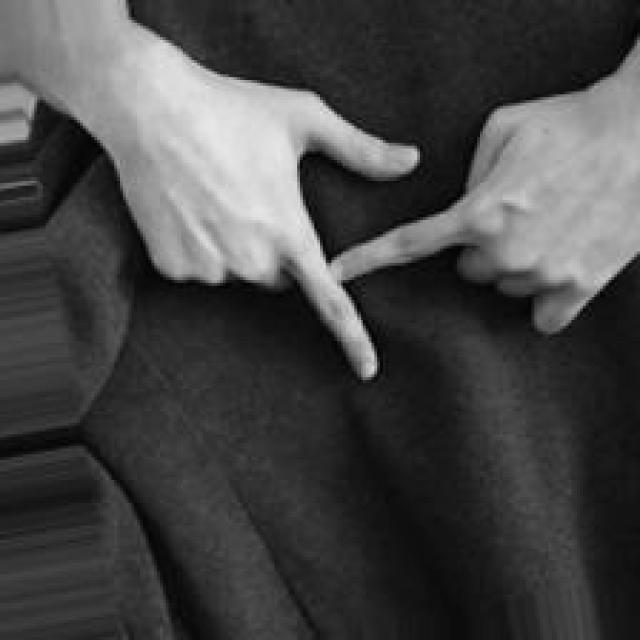F: (157, 31, 640, 386)
